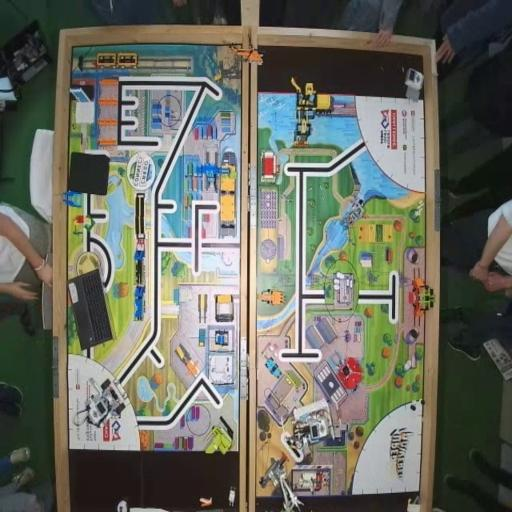lego_robot: (281, 398, 334, 464), (73, 377, 127, 430)
